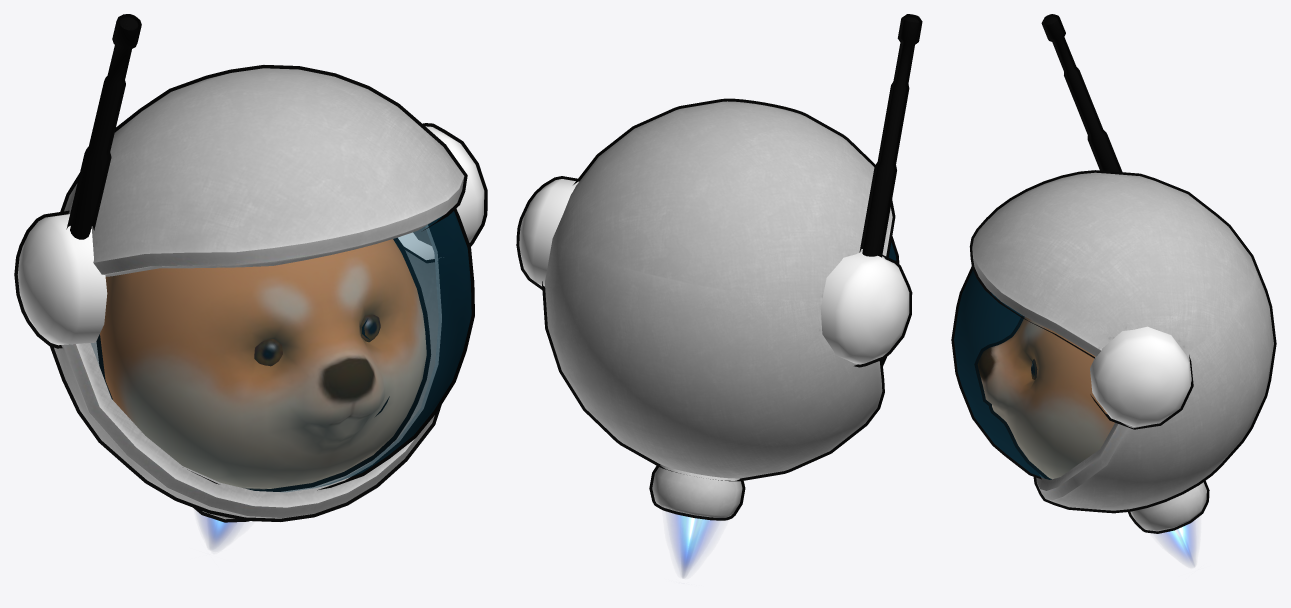
Rendered from doge.glb.
3 renders of one model, left to right at view 1: azimuth 30°, elevation 25°; view 2: azimuth 150°, elevation 25°; view 3: azimuth 270°, elevation 25°, orthographic. The views are drawn at different scales.
Visible parts, largest first — view 1: Sphere001, Box002, Cylinder004_Material #29_0, Cylinder001_Material #28_0, Cylinder002, Box003, Object001_Material #25_0; view 2: Sphere001, Cylinder001_Material #28_0, Cylinder004_Material #29_0, Cylinder002, Cylinder003, Plane004, Plane001; view 3: Sphere001, Box002, Cylinder004_Material #29_0, Cylinder001_Material #28_0, Cylinder002, Cylinder003, Box003, Plane003, Plane002.
Part boxes in pixels (x1,y1,x2,y2): Sphere001: (54,68,471,518); Box002: (100,239,426,489); Cylinder004_Material #29_0: (14,14,487,522); Cylinder001_Material #28_0: (17,126,484,345); Cylinder002: (70,17,138,239); Box003: (96,238,430,491); Object001_Material #25_0: (254,314,380,366); Sphere001: (545,101,896,478); Cylinder001_Material #28_0: (519,179,909,364); Cylinder004_Material #29_0: (516,14,922,520); Cylinder002: (862,17,919,256); Cylinder003: (652,464,742,517); Plane004: (675,515,714,566); Plane001: (675,515,711,564); Sphere001: (954,172,1273,510); Box002: (977,317,1114,478); Cylinder004_Material #29_0: (951,14,1276,533); Cylinder001_Material #28_0: (1090,326,1190,426); Cylinder002: (1044,16,1119,171); Cylinder003: (1130,482,1206,531); Box003: (974,315,1051,479); Plane003: (1164,522,1194,557); Plane002: (1165,525,1191,559).
Bounding box in the file's own units: 1.5 × 2.13 × 1.25.
6 materials, 5 textured.
